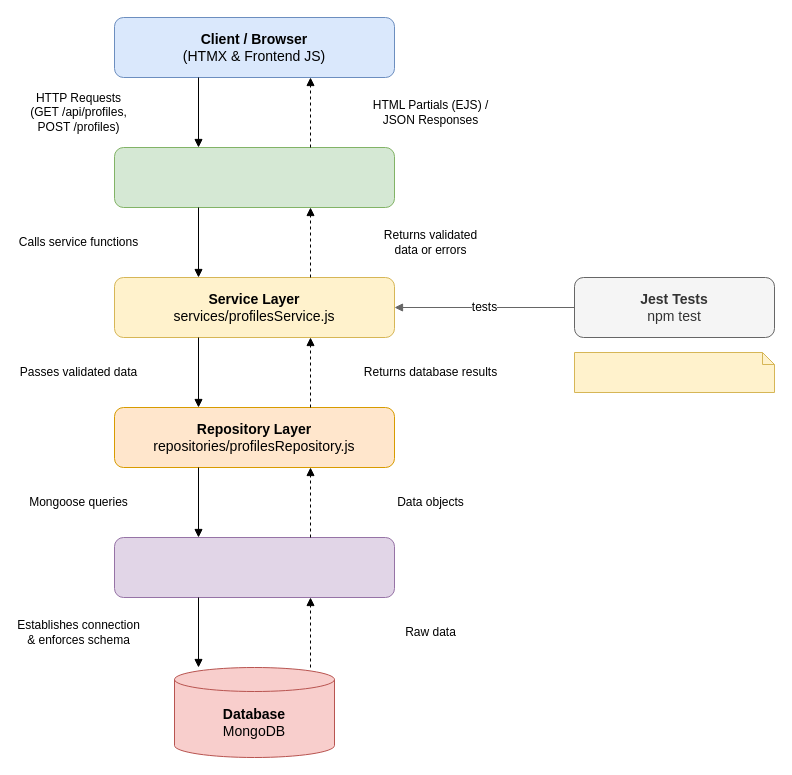
The diagram is 792 pixels wide and 775 high, and some of its shapes have lost their labels. The shapes that lost their labels are listed below. From the top down, each one's box as (x1, y1, x2, y2) in pixels, then its label:
(114, 146, 394, 208): Controller Layer server.js / Route Handlers
(574, 352, 774, 392): Tests cover Service ONLY
(114, 536, 394, 598): Mongoose / DB Config models/Profile.js & db.js
